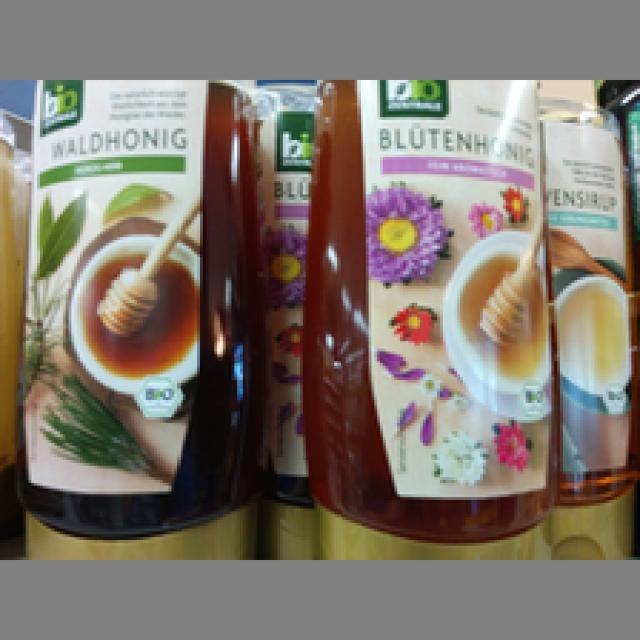groceries: (312, 77, 554, 557), (26, 74, 257, 560), (534, 97, 632, 557)
